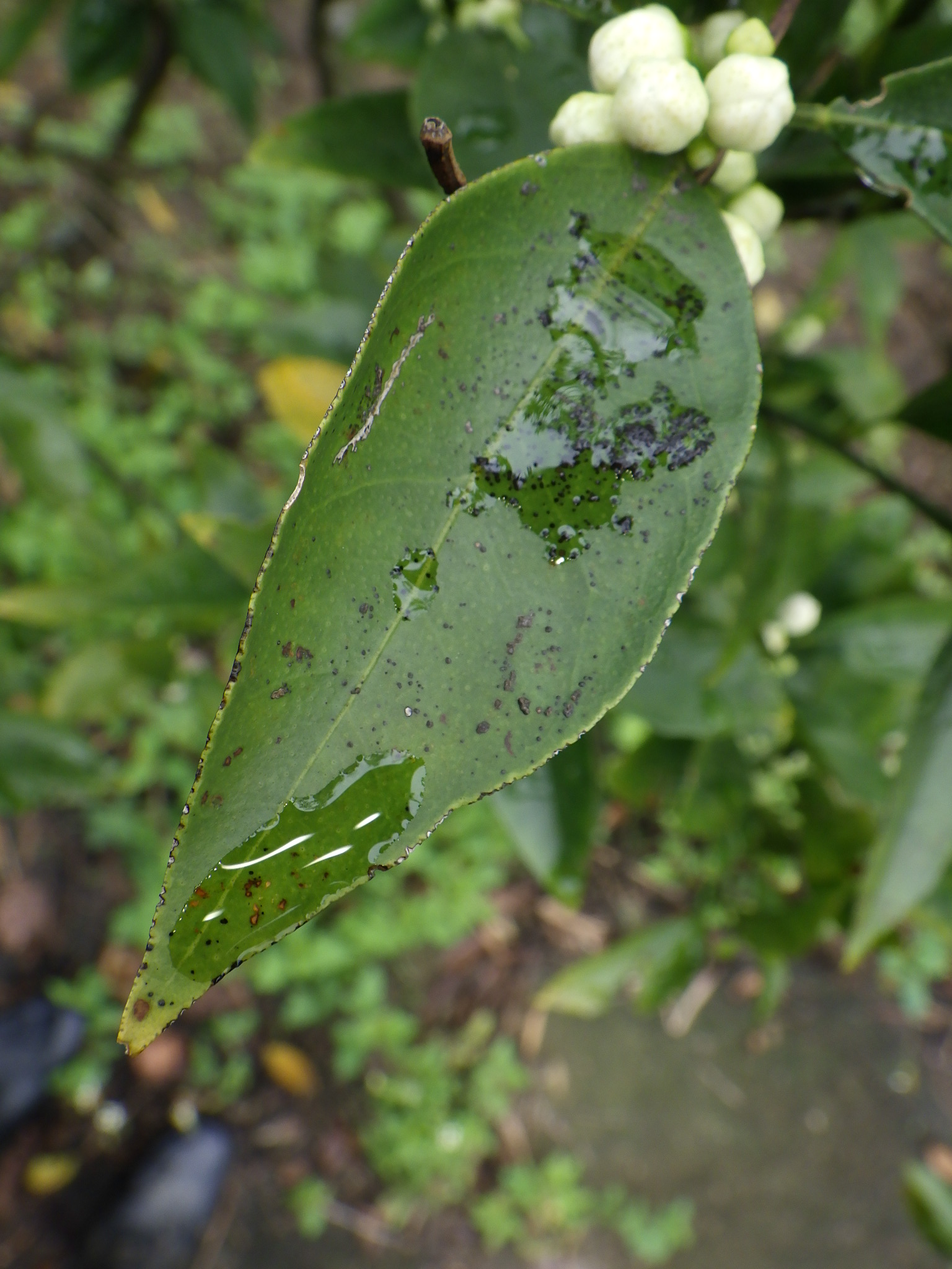Oily_Spot: (122, 146, 760, 1050)
